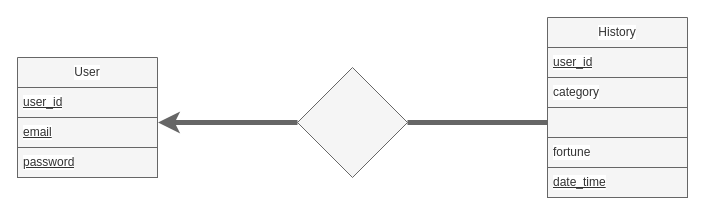
Some shapes in this 705 by 215 pixel diagram are drawn without their labels. Here are the shapes that lost their labels. From the top down, the centre of each, then its label:
point 352,122: Has a
point 617,122: constellation
